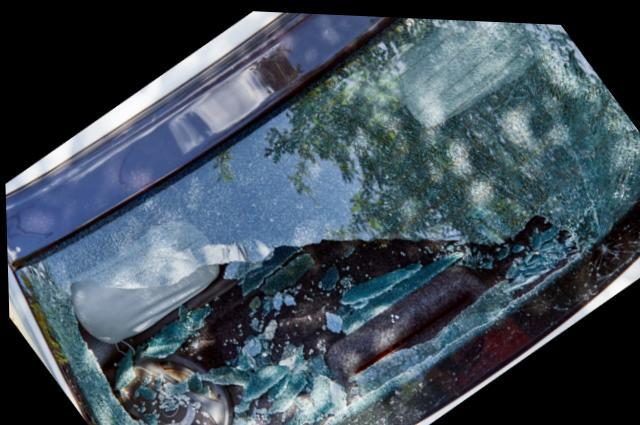glass shatter: (10, 14, 640, 425)
